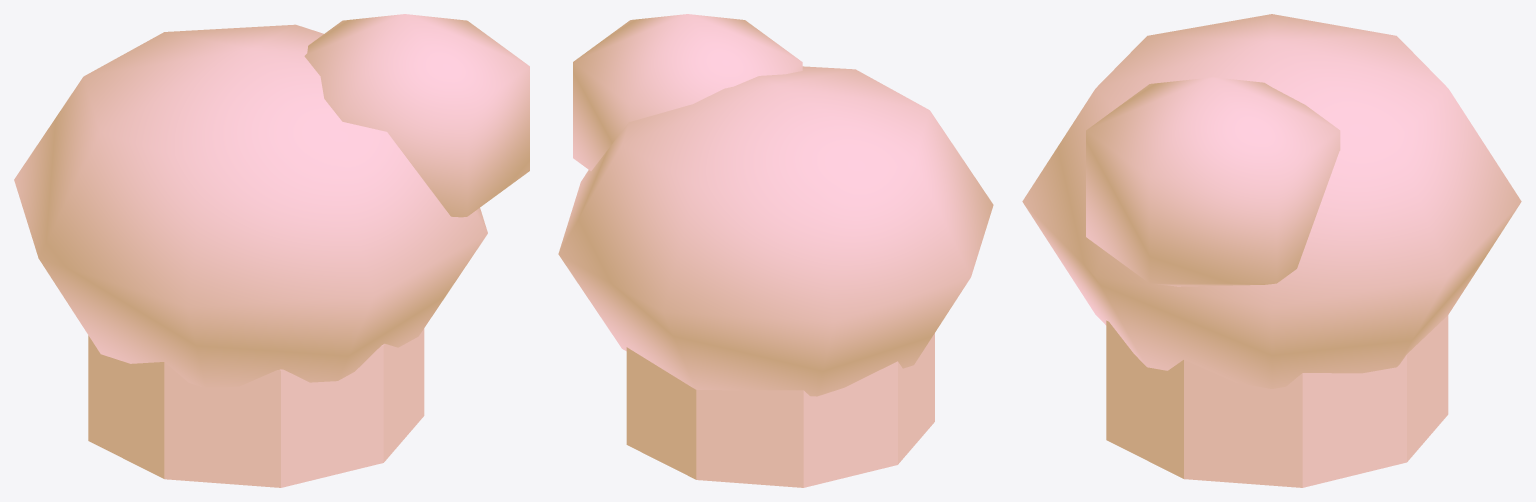
The model's file is dc_abs_toque.glb.
The picture shows the model from 3 angles, left to right: view 1: azimuth 30°, elevation 25°; view 2: azimuth 150°, elevation 25°; view 3: azimuth 270°, elevation 25°; orthographic projection. The views are drawn at different scales.
Visible parts, largest first — view 1: part.dc_abs_toque; view 2: part.dc_abs_toque; view 3: part.dc_abs_toque.
Part boxes in pixels (box(x1,y1,x2,y2)): part.dc_abs_toque: box(14, 14, 529, 487); part.dc_abs_toque: box(558, 14, 993, 487); part.dc_abs_toque: box(1022, 14, 1521, 487).
Size of the model in its own units: 0.345 by 0.3 by 0.34.
